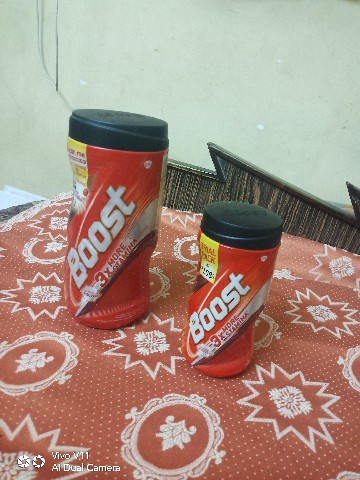boost big: (39, 90, 172, 334)
boost small: (180, 196, 283, 392)
